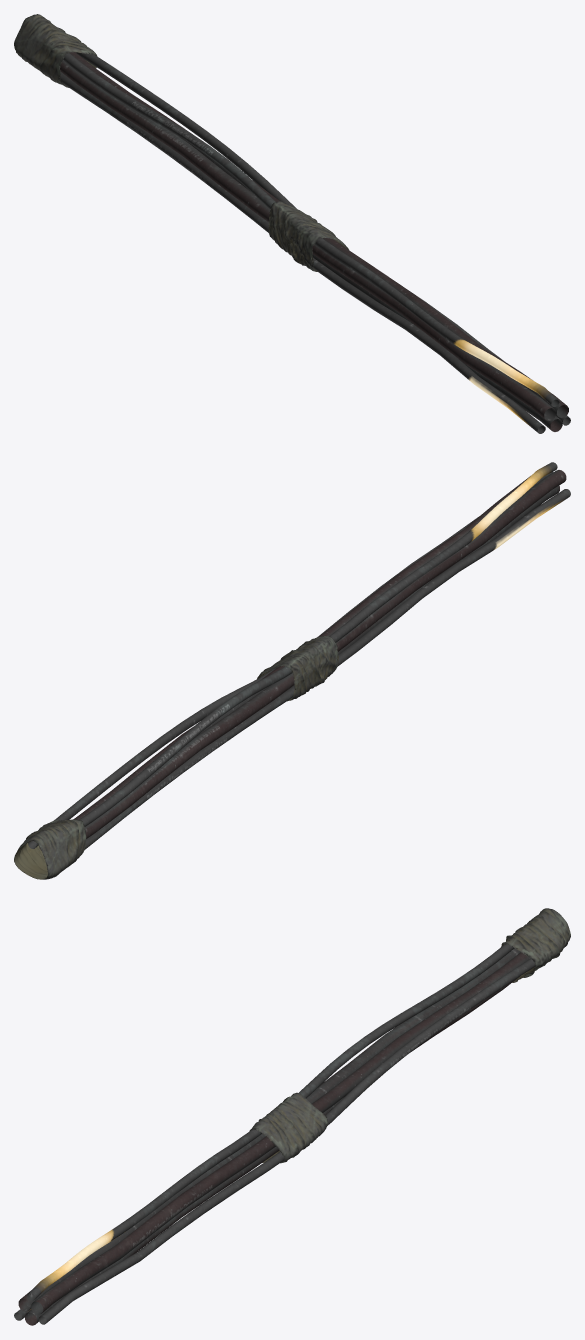
Rendered from SM_Cable_Set_06a.fbx.
The picture shows the model from 3 angles, top to bottom: view 1: azimuth 30°, elevation 25°; view 2: azimuth 150°, elevation 25°; view 3: azimuth 330°, elevation 25°; orthographic projection.
Visible parts, largest first — view 1: SM_Cable_Set_06a_LOD0; view 2: SM_Cable_Set_06a_LOD0; view 3: SM_Cable_Set_06a_LOD0.
Part boxes in pixels (<box>): SM_Cable_Set_06a_LOD0: <box>14,14,570,433</box>; SM_Cable_Set_06a_LOD0: <box>14,462,570,879</box>; SM_Cable_Set_06a_LOD0: <box>14,908,570,1325</box>.
Size of the model in its own units: 10.94 by 208 by 10.54.
